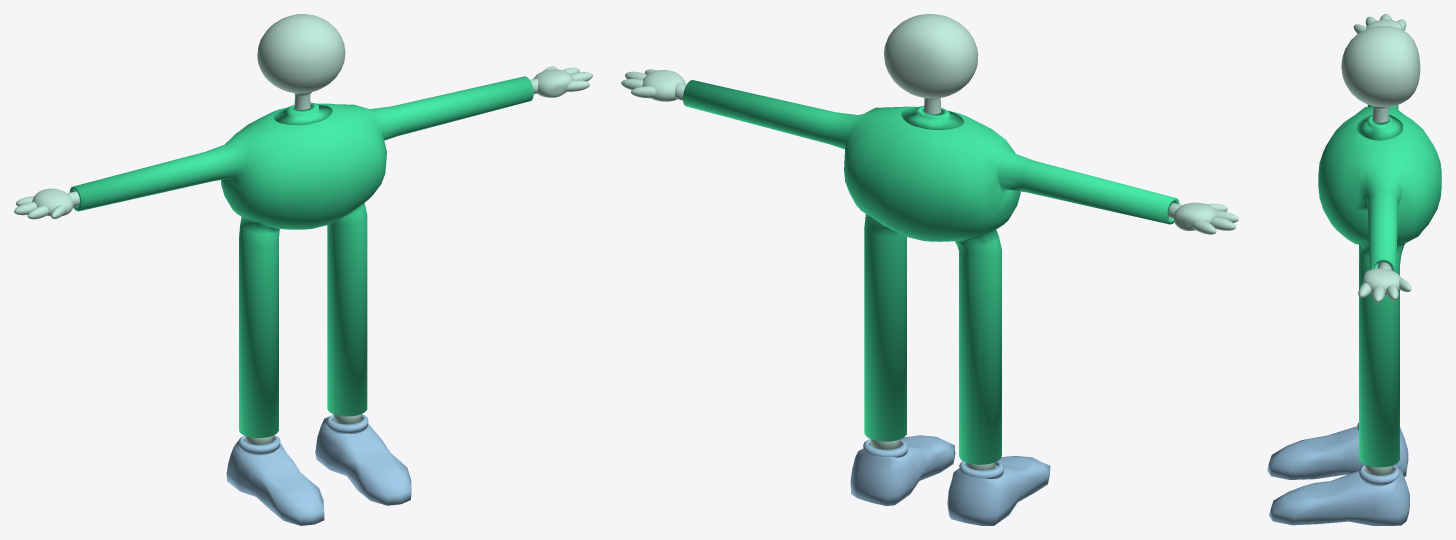
File: character.fbx
3 renders of one model, left to right at view 1: azimuth 30°, elevation 25°; view 2: azimuth 150°, elevation 25°; view 3: azimuth 270°, elevation 25°, orthographic. The views are drawn at different scales.
Parts seen in each view (by area): view 1: habits, shoes, cou, Sphere.001, Sphere; view 2: habits, shoes, cou, Sphere.001, Sphere; view 3: habits, shoes, cou, Sphere, Sphere.001, Cylinder.
Boxes of the visible parts, box(x1,y1,x2,y2) form: habits: box(69, 76, 533, 437); shoes: box(226, 414, 411, 525); cou: box(257, 14, 345, 109); Sphere.001: box(14, 188, 79, 219); Sphere: box(530, 66, 592, 97); habits: box(683, 80, 1179, 464); shoes: box(850, 435, 1050, 525); cou: box(884, 14, 978, 114); Sphere.001: box(1168, 202, 1238, 234); Sphere: box(621, 69, 686, 101); habits: box(1318, 104, 1441, 467); shoes: box(1267, 422, 1409, 525); cou: box(1341, 26, 1420, 122); Sphere: box(1358, 262, 1411, 302); Sphere.001: box(1353, 14, 1406, 33); Cylinder: box(1365, 465, 1393, 475).
Size of the model in its own units: 1149 by 871 by 297.
